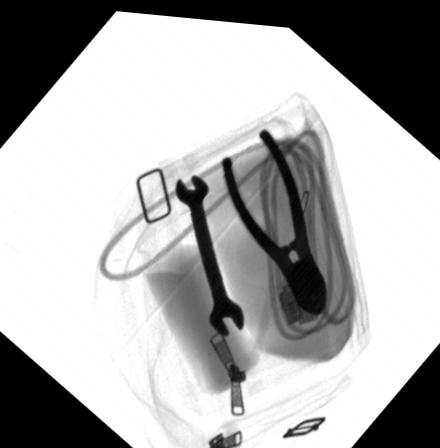Pliers: (221, 124, 328, 308)
Wrench: (176, 171, 247, 331)
